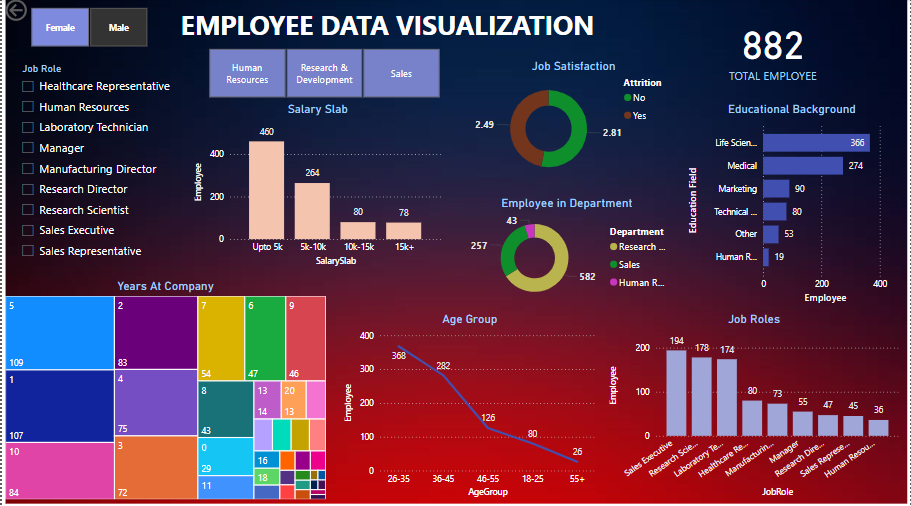

What the dashboard file says about the page in this screenshot:
{"tool":"powerbi","page":{"name":"Page 1","canvas":[1280,720],"ordinal":0},"visuals":[{"type":"image","box":[0,0,1280.2,720],"z":0},{"type":"lineChart","title":"Age Group","fields":{"Y":["CountNonNull(HR_Analytics.Age)"],"Category":["HR_Analytics.AgeGroup"]},"box":[478.1,445,362.9,266.4],"z":1000},{"type":"clusteredColumnChart","title":"Salary Slab","fields":{"Category":["HR_Analytics.SalarySlab"],"Y":["CountNonNull(HR_Analytics.SalarySlab)"]},"box":[266.4,149.8,357.1,236.2],"z":2000},{"type":"treemap","title":"Years At Company ","fields":{"Group":["HR_Analytics.YearsAtCompany"],"Values":["CountNonNull(HR_Analytics.YearsAtCompany)"]},"box":[0,398.9,460.8,315.4],"z":3000},{"type":"donutChart","title":"Employee in Department","fields":{"Y":["CountNonNull(HR_Analytics.Department)"],"Category":["HR_Analytics.Department"]},"box":[639.4,282.2,312.5,155.5],"z":4000},{"type":"clusteredBarChart","title":"Educational Background","fields":{"Category":["HR_Analytics.EducationField"],"Y":["CountNonNull(HR_Analytics.EducationField)"]},"box":[961.9,149.8,301,288],"z":5000},{"type":"donutChart","title":"Job Satisfaction","fields":{"Category":["HR_Analytics.Attrition"],"Y":["Avg(HR_Analytics.JobSatisfaction)"]},"box":[659.5,89.3,292.3,177.1],"z":6000},{"type":"columnChart","title":"Job Roles","fields":{"Category":["HR_Analytics.JobRole"],"Y":["CountNonNull(HR_Analytics.JobRole)"]},"box":[851,445,417.6,266.4],"z":7000},{"type":"slicer","fields":{"Values":["HR_Analytics.Gender"]},"box":[15.8,10.1,213.1,67.7],"z":8000},{"type":"slicer","fields":{"Values":["HR_Analytics.Department"]},"box":[266.4,54.7,374.4,82.1],"z":9000},{"type":"slicer","fields":{"Values":["HR_Analytics.JobRole"]},"box":[15.8,89.3,243.4,296.6],"z":10000},{"type":"textbox","box":[246.2,0,604.8,73.4],"z":11000},{"type":"actionButton","box":[0,0,100,40],"z":12000},{"type":"card","fields":{"Values":["CountNonNull(HR_Analytics.EmpID)"]},"box":[961.9,10.1,247.7,126.7],"z":13000}]}

Visuals, with their boxes in screenshot pixels (x1, y1, x2, y2), scaled from the page's 1280x720 canvas onto the 911x506 screenshot:
image: 0:0:910:505
"Age Group" lineChart: 340:313:599:500
"Salary Slab" clusteredColumnChart: 190:105:444:271
"Years At Company " treemap: 0:280:328:502
"Employee in Department" donutChart: 455:198:677:308
"Educational Background" clusteredBarChart: 685:105:899:308
"Job Satisfaction" donutChart: 469:63:677:187
"Job Roles" columnChart: 606:313:903:500
slicer - HR_Analytics.Gender: 11:7:163:55
slicer - HR_Analytics.Department: 190:38:456:96
slicer - HR_Analytics.JobRole: 11:63:184:271
textbox: 175:0:606:52
actionButton: 0:0:71:28
card - CountNonNull(HR_Analytics.EmpID): 685:7:861:96
